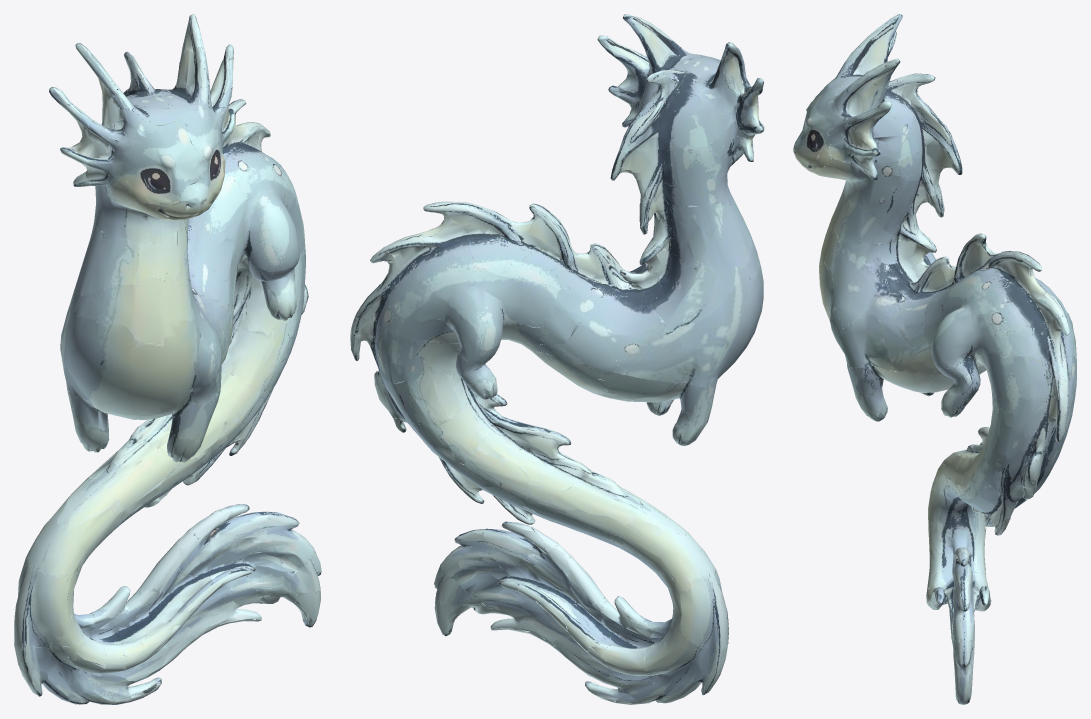
3 views of the same model, side by side, from view 1: azimuth 30°, elevation 25°; view 2: azimuth 150°, elevation 25°; view 3: azimuth 270°, elevation 25° (orthographic). The views are drawn at different scales.
Parts seen in each view (by area): view 1: Mesh_0; view 2: Mesh_0; view 3: Mesh_0.
Part boxes in pixels (<box>): Mesh_0: <box>14,14,321,704</box>; Mesh_0: <box>350,14,764,704</box>; Mesh_0: <box>793,14,1076,704</box>.
Size of the model in its own units: 0.9762 by 1.9 by 0.8067.
Materials: 1 (1 with a texture image).
